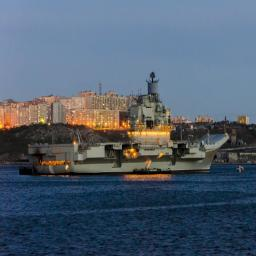Portanaves: (23, 68, 233, 176)
